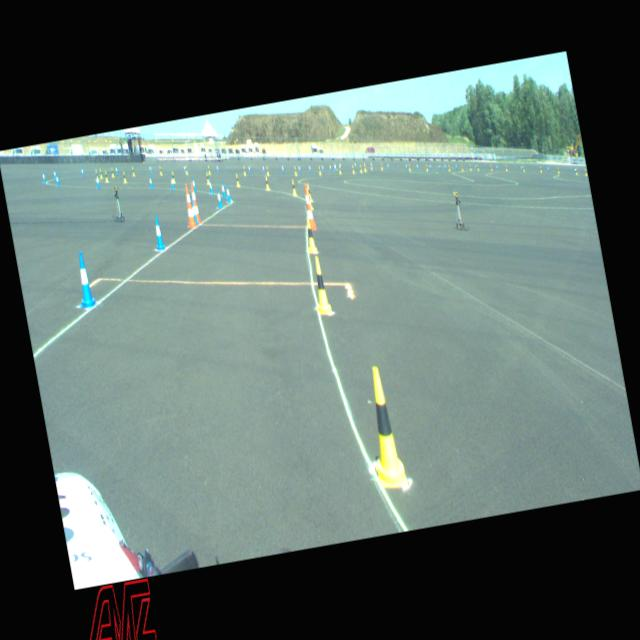blue_cone: (70, 250, 98, 309), (150, 214, 166, 251), (190, 198, 200, 225), (215, 187, 222, 208), (224, 183, 231, 202), (220, 180, 227, 198), (207, 178, 214, 194), (169, 174, 175, 190), (148, 175, 154, 189), (94, 174, 100, 188), (54, 172, 60, 185), (192, 176, 196, 192), (42, 170, 46, 182), (52, 168, 56, 179), (80, 166, 84, 176), (247, 163, 251, 173), (115, 165, 118, 174), (149, 163, 152, 172)
large_orange_cone: (180, 184, 197, 228), (302, 184, 316, 231), (189, 182, 201, 224)
yellow_cone: (358, 364, 408, 489), (309, 255, 332, 315), (302, 216, 318, 253), (306, 188, 312, 210), (290, 178, 297, 196), (306, 182, 312, 201), (264, 174, 270, 190), (234, 173, 240, 187), (121, 170, 128, 182), (102, 170, 109, 182), (204, 171, 210, 184), (172, 171, 176, 183), (158, 165, 162, 175), (242, 166, 246, 176), (265, 166, 269, 176), (293, 166, 297, 176), (131, 167, 135, 176), (184, 165, 188, 174), (338, 165, 342, 174), (351, 164, 355, 173), (99, 168, 102, 179), (110, 168, 114, 176), (318, 166, 322, 174), (584, 168, 588, 176), (95, 170, 98, 180), (574, 168, 578, 175), (207, 165, 210, 174), (359, 164, 362, 172), (364, 163, 366, 172)
